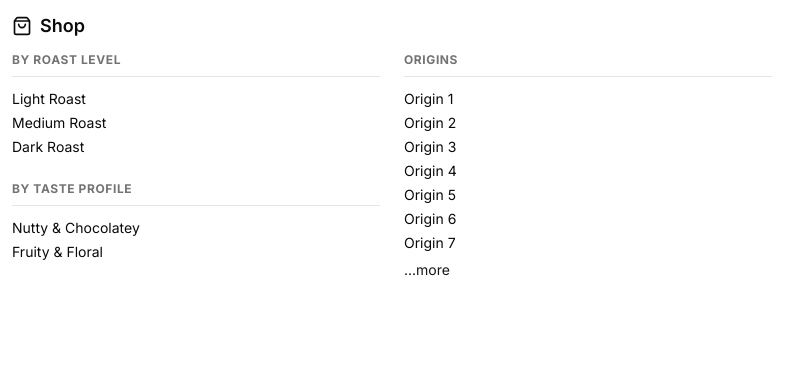
it: FooterCategories - Integration Tests › CategoryMenuColumns Integration › supports expand/collapse functionality from CategoryMenuColumns
This screenshot has width=789, height=365.
// Click to expand
Click the button with aria-label "Show more categories in ORIGINS". click: [427, 270]
box: [404,260,450,280]
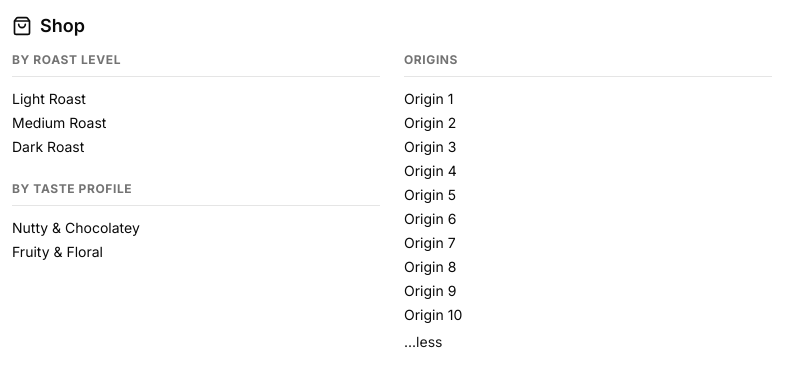
Expected: the link "Origin 10" is shown, [404,306,462,323]
